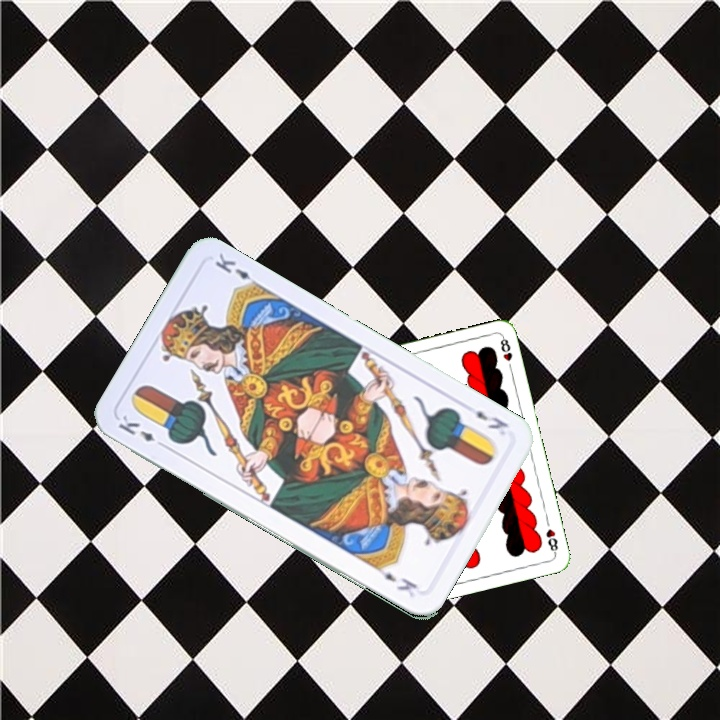EK: (114, 411, 169, 451), (462, 400, 511, 432)
H8: (542, 525, 560, 556)
